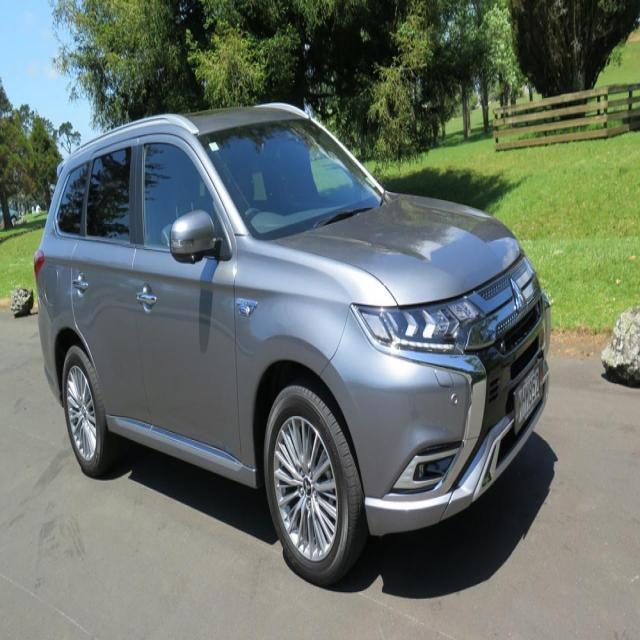light_vehicle: (34, 100, 552, 586)
